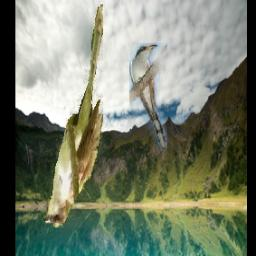Cuckoo: (40, 4, 103, 228), (129, 44, 167, 152)
